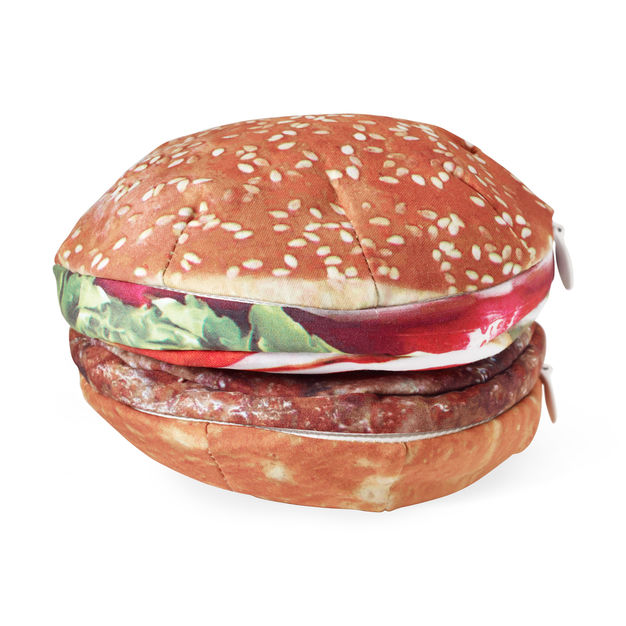hamburger: (52, 113, 588, 522)
